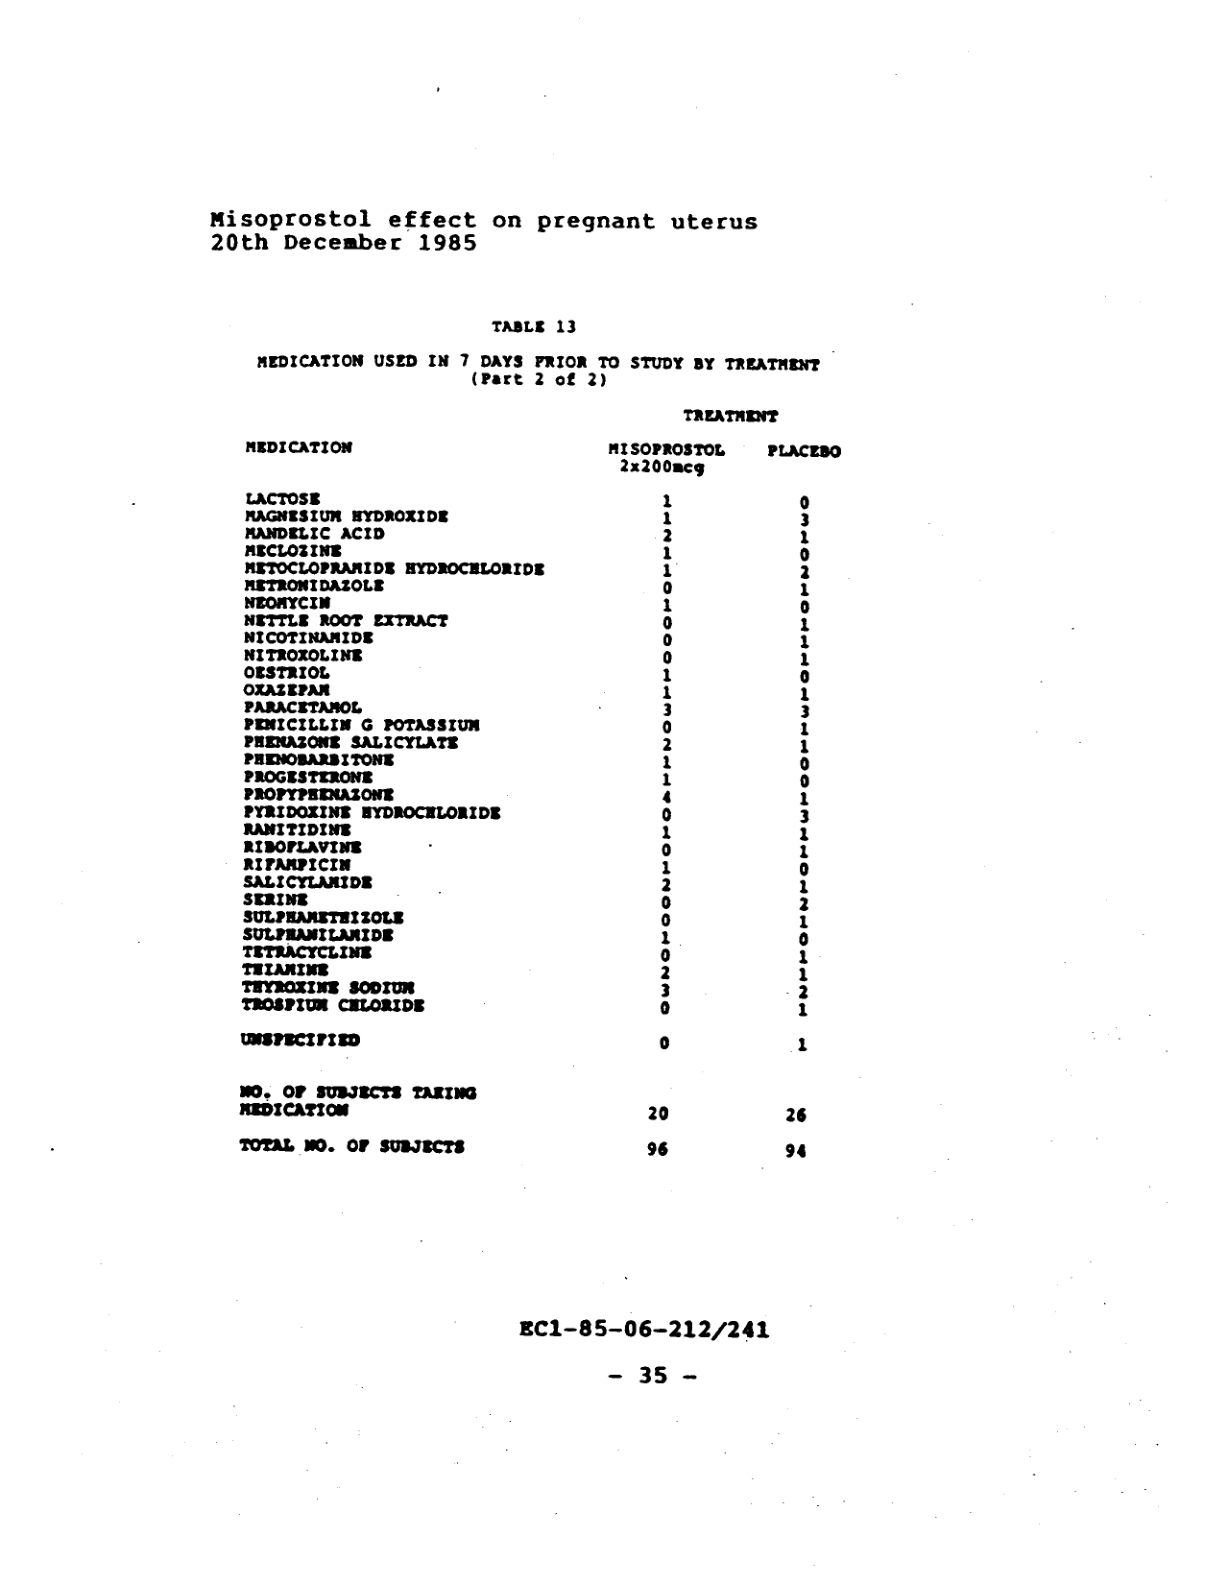nolines: (237, 436, 843, 1162)
